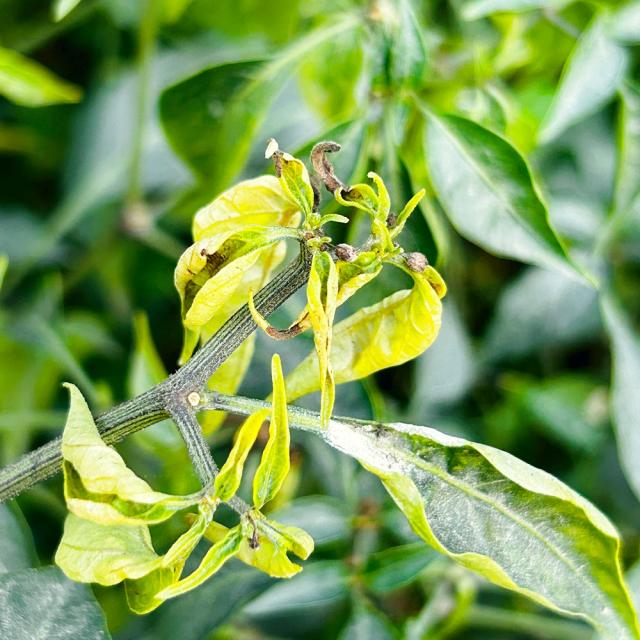Chilli_Leaf_Curl: (5, 136, 637, 637), (173, 137, 447, 427), (319, 414, 638, 638), (53, 355, 315, 615), (250, 352, 291, 509), (304, 246, 339, 428)
